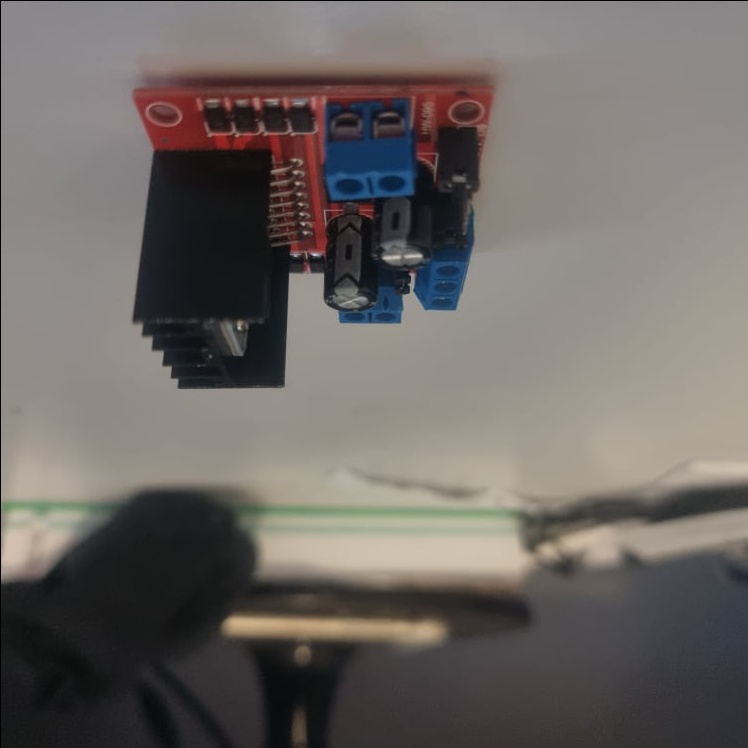MOTOR: (125, 80, 499, 391)
